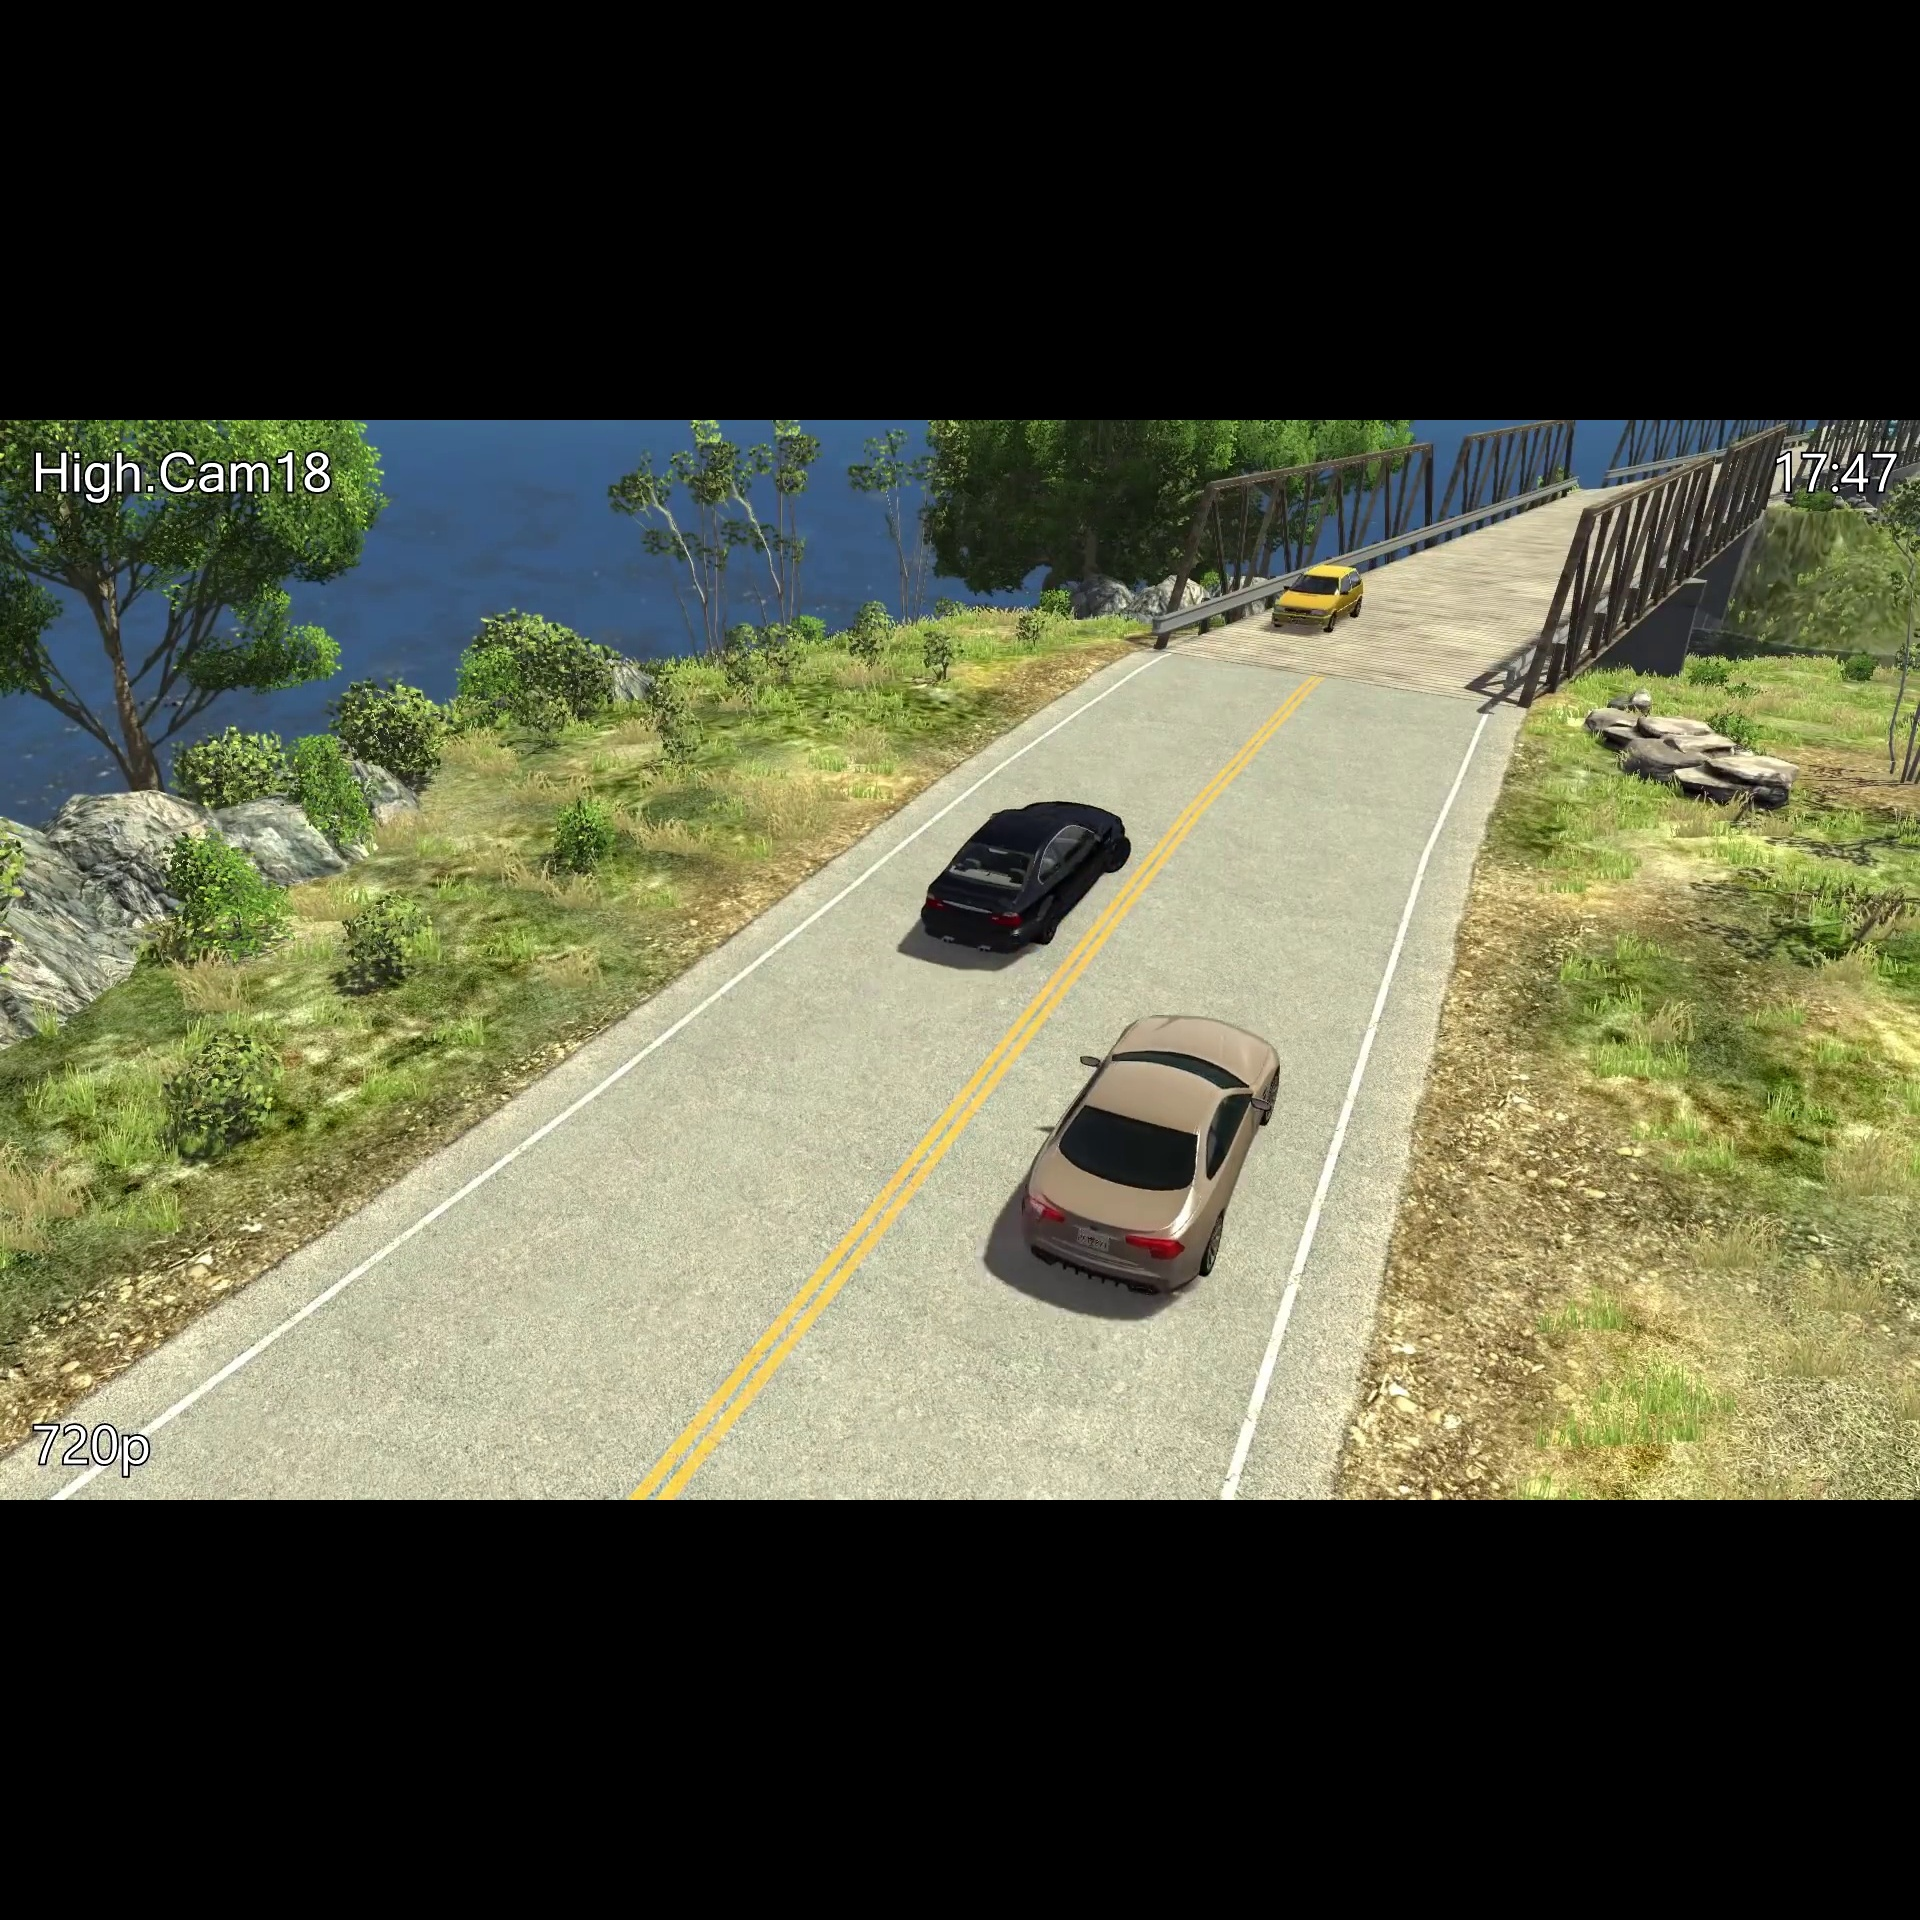vehicle: (1009, 1002, 1287, 1306), (913, 782, 1143, 964), (1269, 557, 1366, 638)
